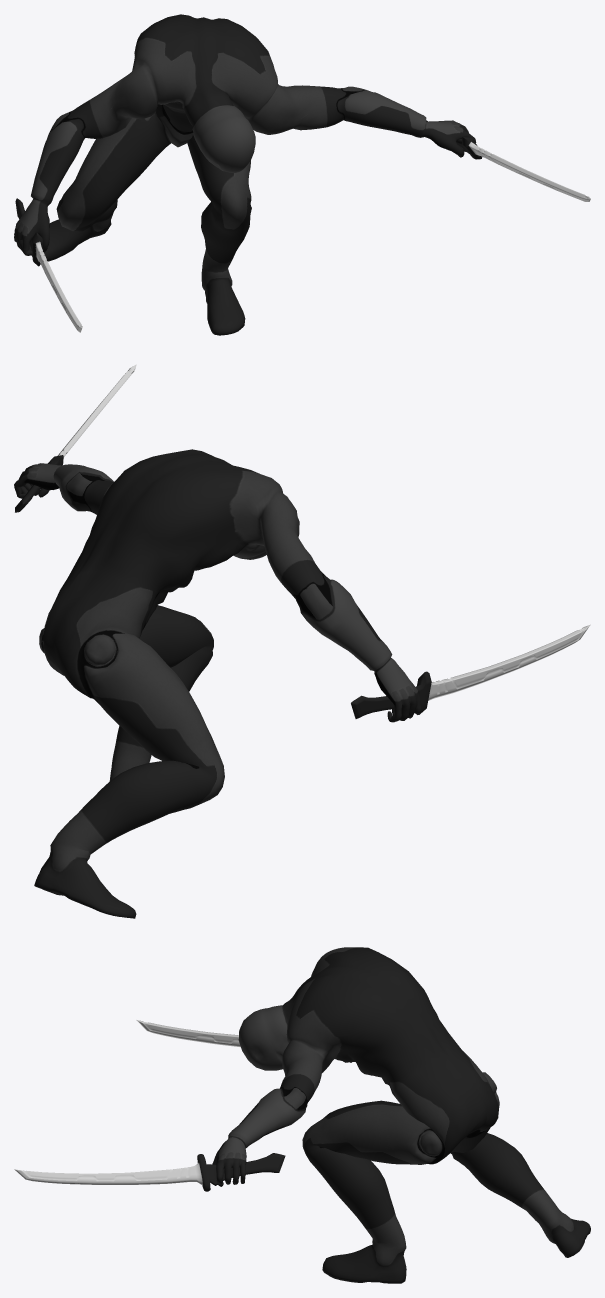
The picture shows the model from 3 angles, top to bottom: view 1: azimuth 30°, elevation 25°; view 2: azimuth 150°, elevation 25°; view 3: azimuth 270°, elevation 25°; orthographic projection. The views are drawn at different scales.
Visible parts, largest first — view 1: Cyborg_Ninja_Killer, Sword_l, Sword_l001; view 2: Cyborg_Ninja_Killer, Sword_l001, Sword_l; view 3: Cyborg_Ninja_Killer, Sword_l, Sword_l001.
Part boxes in pixels (x1,y1,x2,y2): Cyborg_Ninja_Killer: [14, 14, 476, 335]; Sword_l: [426, 120, 590, 201]; Sword_l001: [15, 198, 82, 332]; Cyborg_Ninja_Killer: [14, 449, 421, 918]; Sword_l001: [351, 624, 590, 718]; Sword_l: [15, 364, 136, 512]; Cyborg_Ninja_Killer: [212, 947, 590, 1283]; Sword_l: [14, 1153, 285, 1191]; Sword_l001: [136, 1020, 240, 1047].
Bounding box in the file's own units: 166 × 106 × 187.
2 materials, 2 textured.
